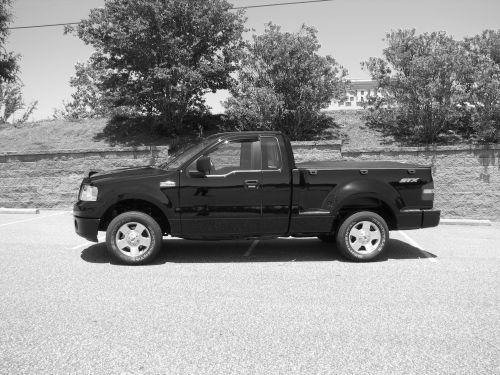car: (69, 128, 444, 268)
